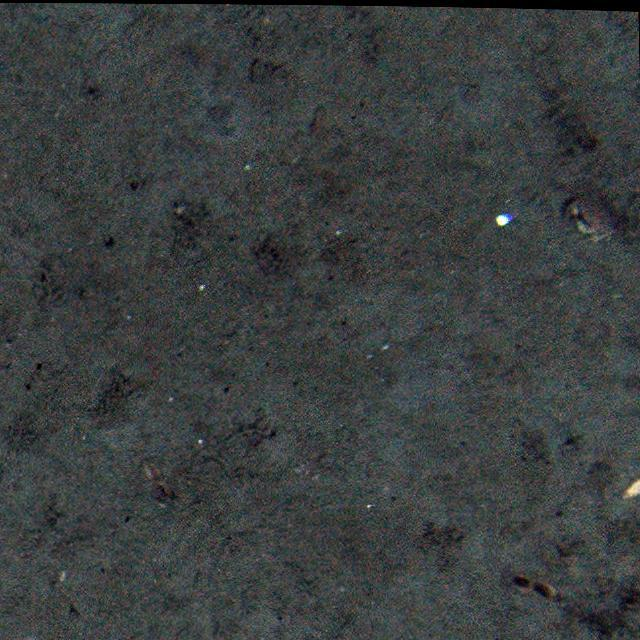crab: (559, 192, 609, 241)
